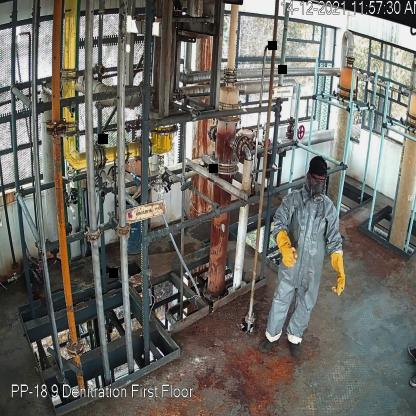goggles: (310, 175, 326, 185)
mask: (308, 182, 324, 204)
